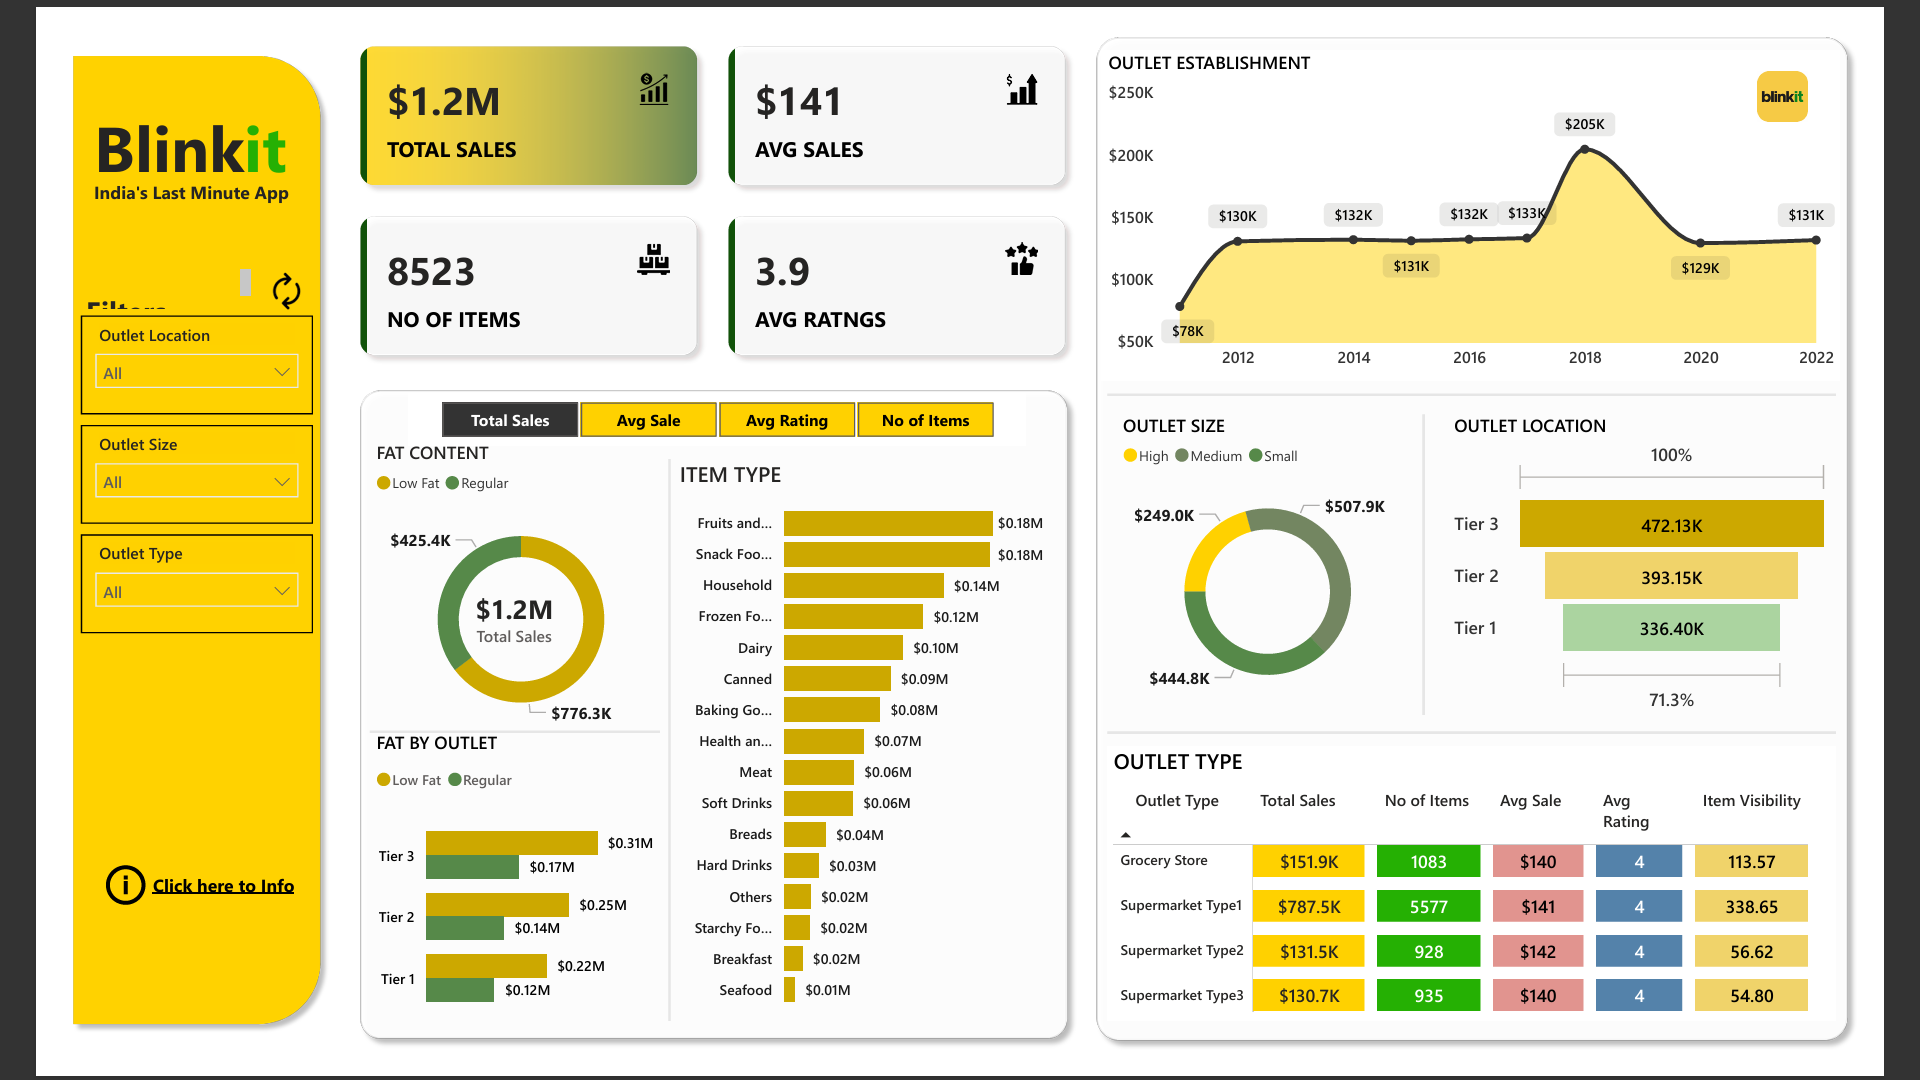

The page's visual inventory and layout, read from the dashboard file:
{"tool":"powerbi","page":{"name":"Blinkit","canvas":[1400,800],"ordinal":0},"visuals":[{"type":"shape","box":[20.1,24.1,203.8,750.7],"z":0},{"type":"textbox","box":[38.9,63,166.2,80.4],"z":1000},{"type":"textbox","box":[38.9,122,175.6,28.2],"z":2000},{"type":"cardVisual","fields":{"Data":["BlinkIT Grocery Data.Total Sales","BlinkIT Grocery Data.Avg Sale","BlinkIT Grocery Data.No of Items","BlinkIT Grocery Data.Avg Rating"]},"box":[229.2,8,569.7,269.4],"z":3000},{"type":"shape","box":[237.3,277.5,553.6,509.4],"z":4000},{"type":"slicer","fields":{"Values":["Metrics.Metrics"]},"box":[281.5,288.2,467.8,40.2],"z":5000},{"type":"donutChart","title":"FAT CONTENT","fields":{"Y":["BlinkIT Grocery Data.Total Sales"],"Category":["BlinkIT Grocery Data.Item Fat Content"]},"box":[253.4,324.4,229.2,230.6],"z":6000},{"type":"cardVisual","fields":{"Data":["BlinkIT Grocery Data.Total Sales"]},"box":[312.3,412.9,101.9,91.2],"z":7000},{"type":"clusteredBarChart","title":"FAT BY OUTLET","fields":{"Y":["BlinkIT Grocery Data.Total Sales"],"Category":["BlinkIT Grocery Data.Outlet Location Type"],"Series":["BlinkIT Grocery Data.Item Fat Content"]},"box":[253.4,544.2,219.8,230.6],"z":8000},{"type":"shape","box":[253.4,470.5,219.8,147.5],"z":9000},{"type":"shape","box":[447.7,337.8,64.3,426.3],"z":10000},{"type":"barChart","title":"ITEM TYPE","fields":{"Y":["BlinkIT Grocery Data.Total Sales"],"Category":["BlinkIT Grocery Data.Item Type"]},"box":[482.6,337.8,285.5,426.3],"z":11000},{"type":"shape","box":[794.9,9.4,587.1,778.8],"z":12000},{"type":"lineChart","title":"OUTLET ESTABLISHMENT","fields":{"Y":["BlinkIT Grocery Data.Total Sales"],"Category":["BlinkIT Grocery Data.Outlet Establishment Year"]},"box":[808.3,28.2,560.3,250.7],"z":13000},{"type":"shape","box":[812.3,274.8,552.3,28.2],"z":14000},{"type":"donutChart","title":"OUTLET SIZE","fields":{"Y":["BlinkIT Grocery Data.Total Sales"],"Series":["BlinkIT Grocery Data.Outlet Size"]},"box":[819,303,229.2,230.6],"z":15000},{"type":"shape","box":[1026.8,304.3,49.6,227.9],"z":16000},{"type":"funnel","title":"OUTLET LOCATION","fields":{"Category":["BlinkIT Grocery Data.Outlet Location Type"],"Y":["Sum(BlinkIT Grocery Data.Sales)"]},"box":[1069.7,303,294.9,233.2],"z":17000},{"type":"shape","box":[812.3,533.5,552.3,22.8],"z":18000},{"type":"pivotTable","title":"OUTLET TYPE","fields":{"Rows":["BlinkIT Grocery Data.Outlet Type"],"Values":["BlinkIT Grocery Data.Total Sales","BlinkIT Grocery Data.No of Items","BlinkIT Grocery Data.Avg Sale","BlinkIT Grocery Data.Avg Rating","Sum(BlinkIT Grocery Data.Item Visibility)"]},"box":[812.3,556.3,552.3,207.8],"z":19000},{"type":"slicer","fields":{"Values":["BlinkIT Grocery Data.Outlet Location Type"]},"box":[33.5,229.2,175.6,75.1],"z":20000},{"type":"slicer","fields":{"Values":["BlinkIT Grocery Data.Outlet Size"]},"box":[33.5,312.3,175.6,75.1],"z":21000},{"type":"slicer","fields":{"Values":["BlinkIT Grocery Data.Outlet Type"]},"box":[33.5,395.4,175.6,75.1],"z":22000},{"type":"textbox","box":[33.3,189.3,134.7,40],"z":23000},{"type":"image","box":[1300.3,37.5,48.3,50.9],"z":24000},{"type":"image","box":[168,189.3,44,42.7],"z":25000},{"type":"textbox","box":[73.3,646.7,138.7,52],"z":26000},{"type":"actionButton","box":[48,641.3,44,40],"z":27000},{"type":"textbox","box":[84,505.3,130.7,32],"z":28000}]}

Visuals, with their boxes in screenshot pixels (x1, y1, x2, y2), scaled from the page's 1400x800 canvas onto the 1920x1080 screenshot:
shape: region(28, 33, 307, 1046)
textbox: region(53, 85, 281, 194)
textbox: region(53, 165, 294, 203)
cardVisual - BlinkIT Grocery Data.Total Sales x BlinkIT Grocery Data.Avg Sale: region(314, 11, 1096, 374)
shape: region(325, 375, 1085, 1062)
slicer - Metrics.Metrics: region(386, 389, 1028, 443)
"FAT CONTENT" donutChart: region(348, 438, 662, 749)
cardVisual - BlinkIT Grocery Data.Total Sales: region(428, 557, 568, 681)
"FAT BY OUTLET" clusteredBarChart: region(348, 735, 649, 1046)
shape: region(348, 635, 649, 834)
shape: region(614, 456, 702, 1032)
"ITEM TYPE" barChart: region(662, 456, 1053, 1032)
shape: region(1090, 13, 1895, 1064)
"OUTLET ESTABLISHMENT" lineChart: region(1109, 38, 1877, 377)
shape: region(1114, 371, 1871, 409)
"OUTLET SIZE" donutChart: region(1123, 409, 1438, 720)
shape: region(1408, 411, 1476, 718)
"OUTLET LOCATION" funnel: region(1467, 409, 1871, 724)
shape: region(1114, 720, 1871, 751)
"OUTLET TYPE" pivotTable: region(1114, 751, 1871, 1032)
slicer - BlinkIT Grocery Data.Outlet Location Type: region(46, 309, 287, 411)
slicer - BlinkIT Grocery Data.Outlet Size: region(46, 422, 287, 523)
slicer - BlinkIT Grocery Data.Outlet Type: region(46, 534, 287, 635)
textbox: region(46, 256, 230, 310)
image: region(1783, 51, 1850, 119)
image: region(230, 256, 291, 313)
textbox: region(101, 873, 291, 943)
actionButton: region(66, 866, 126, 920)
textbox: region(115, 682, 294, 725)
